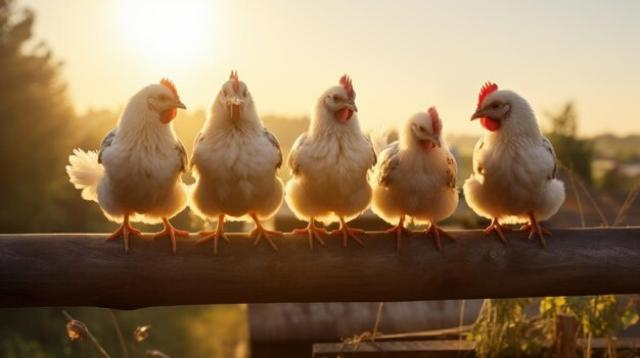Chicken: (66, 78, 194, 254), (188, 68, 284, 254), (461, 81, 567, 245), (285, 75, 376, 250), (369, 107, 460, 251)
